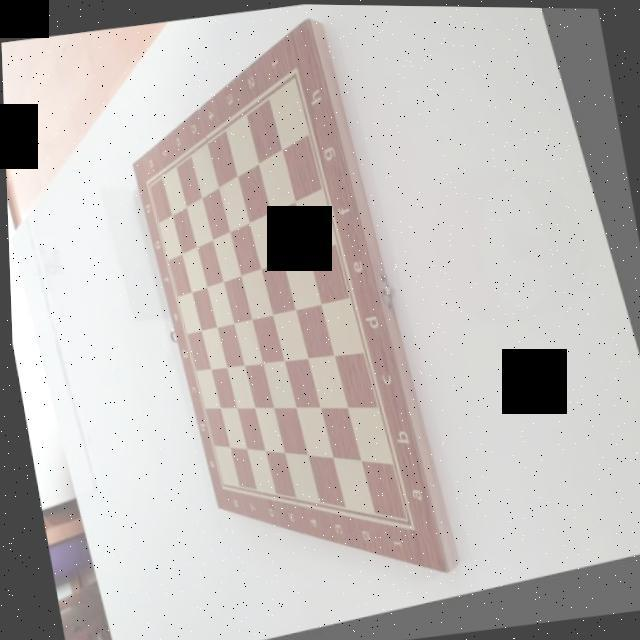chess-table-corners: (398, 513, 420, 541), (296, 65, 318, 92), (216, 476, 233, 496), (150, 177, 167, 196)
